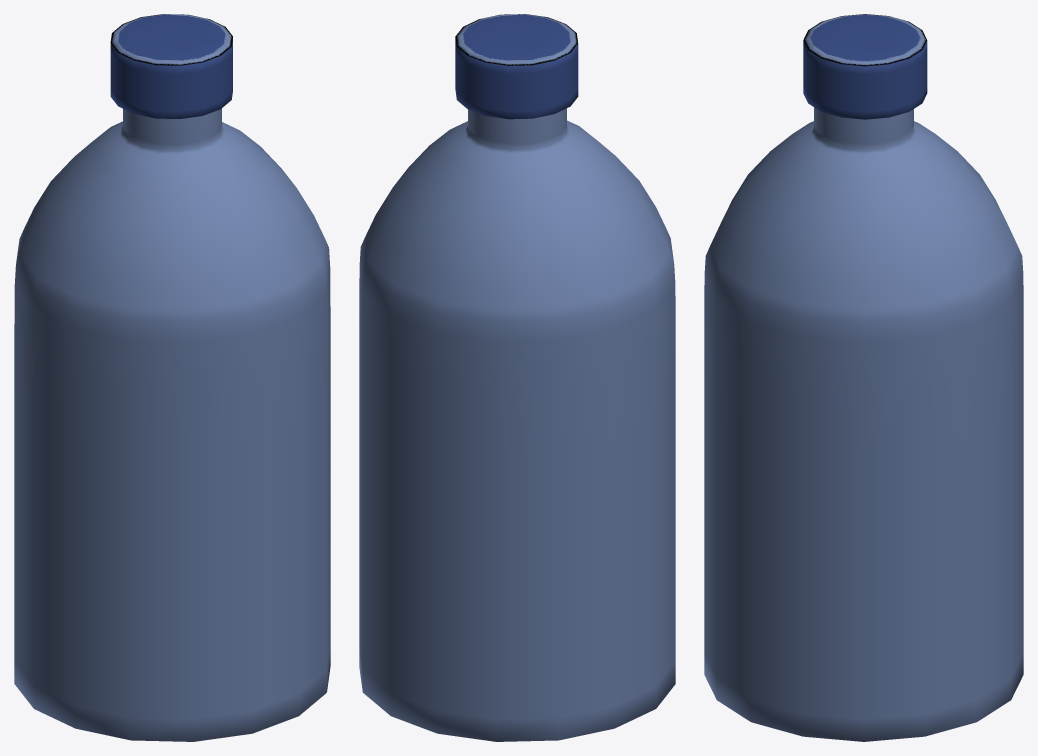
Rendered from water.fbx.
3 views of the same model, side by side, from view 1: azimuth 30°, elevation 25°; view 2: azimuth 150°, elevation 25°; view 3: azimuth 270°, elevation 25° (orthographic).
Parts seen in each view (by area): view 1: water; view 2: water; view 3: water.
Part boxes in pixels (bbox=[...]): water: bbox=[14, 14, 330, 741]; water: bbox=[359, 14, 675, 741]; water: bbox=[704, 14, 1023, 741].
Bounding box in the file's own units: 0.6114 × 1.36 × 0.6114.
Materials: 1 (1 with a texture image).
